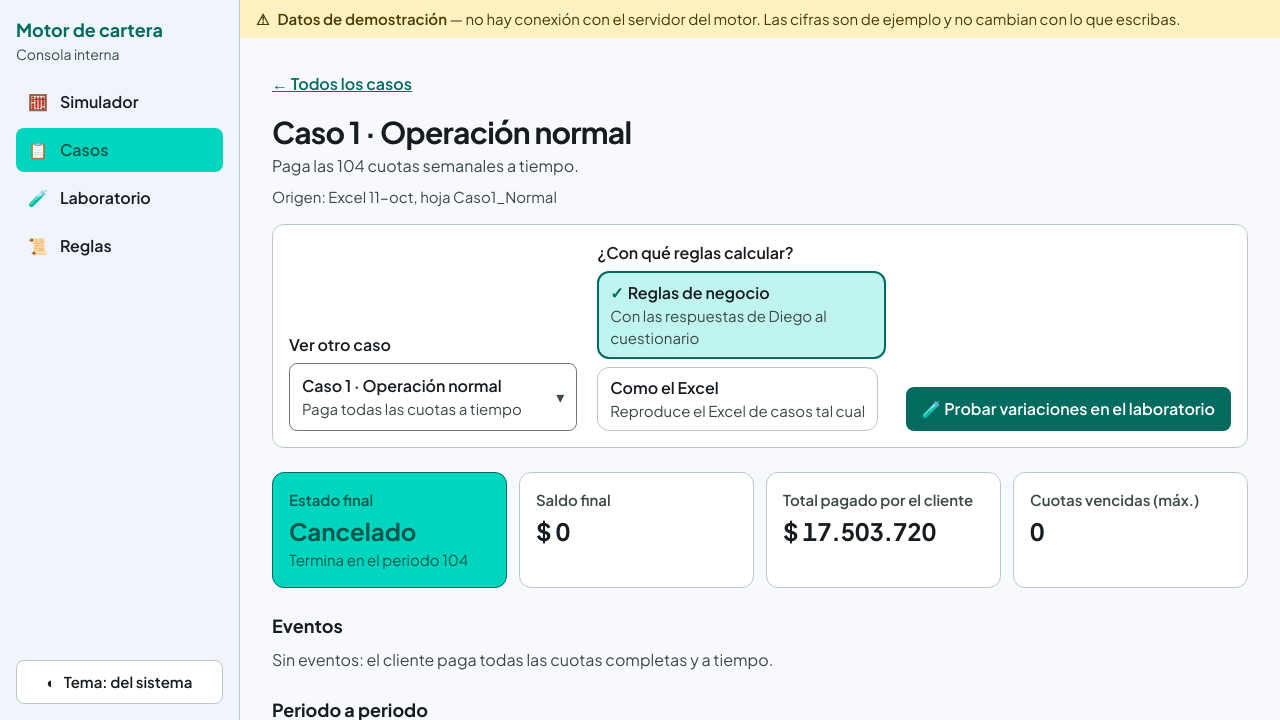
Test case: Laboratorio › "Probar variaciones en el laboratorio" carga el caso y lo deja marcado como punto de partida (bug: decía «Crédito nuevo»)
The width and height of the screenshot is (1280, 720).
Click the button "🧪 Probar variaciones en el laboratorio" at x=1068, y=409, box [906,387,1231,431]
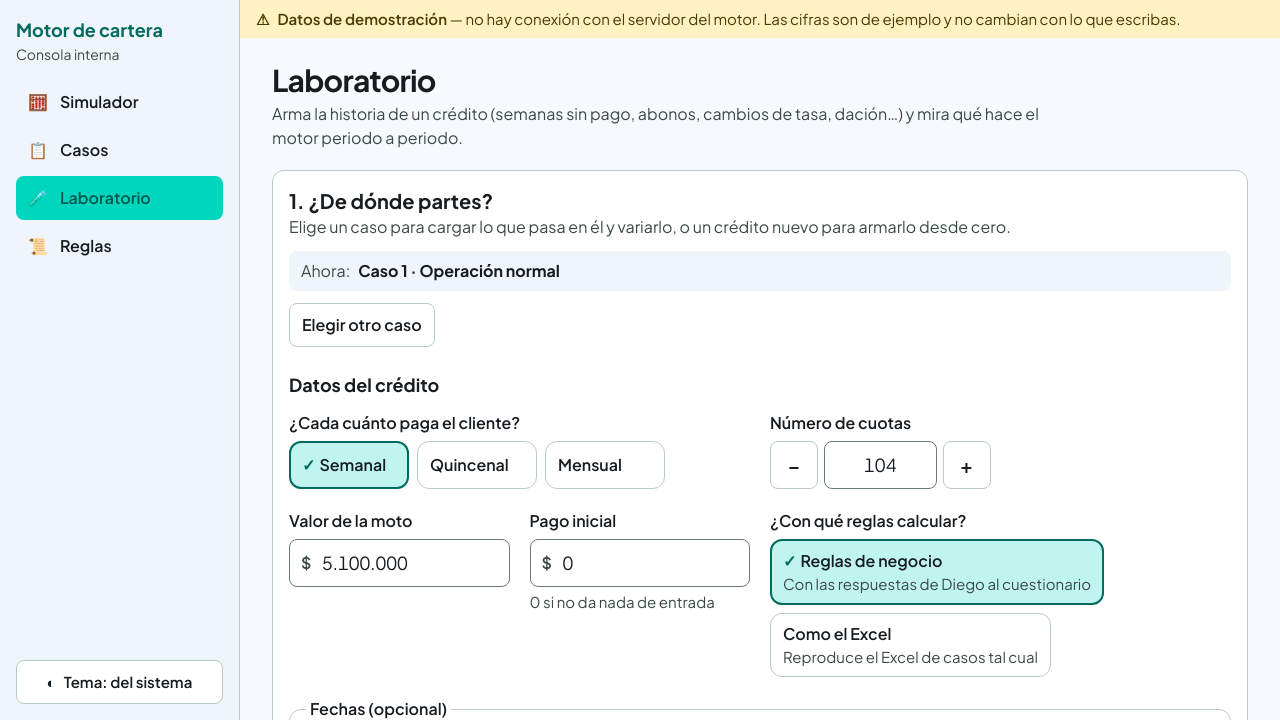
Check: the text "Caso 1 · Operación normal" is shown, box [358,259,560,283]
Click the button "Elegir otro caso" at x=362, y=325, box [289,303,435,347]
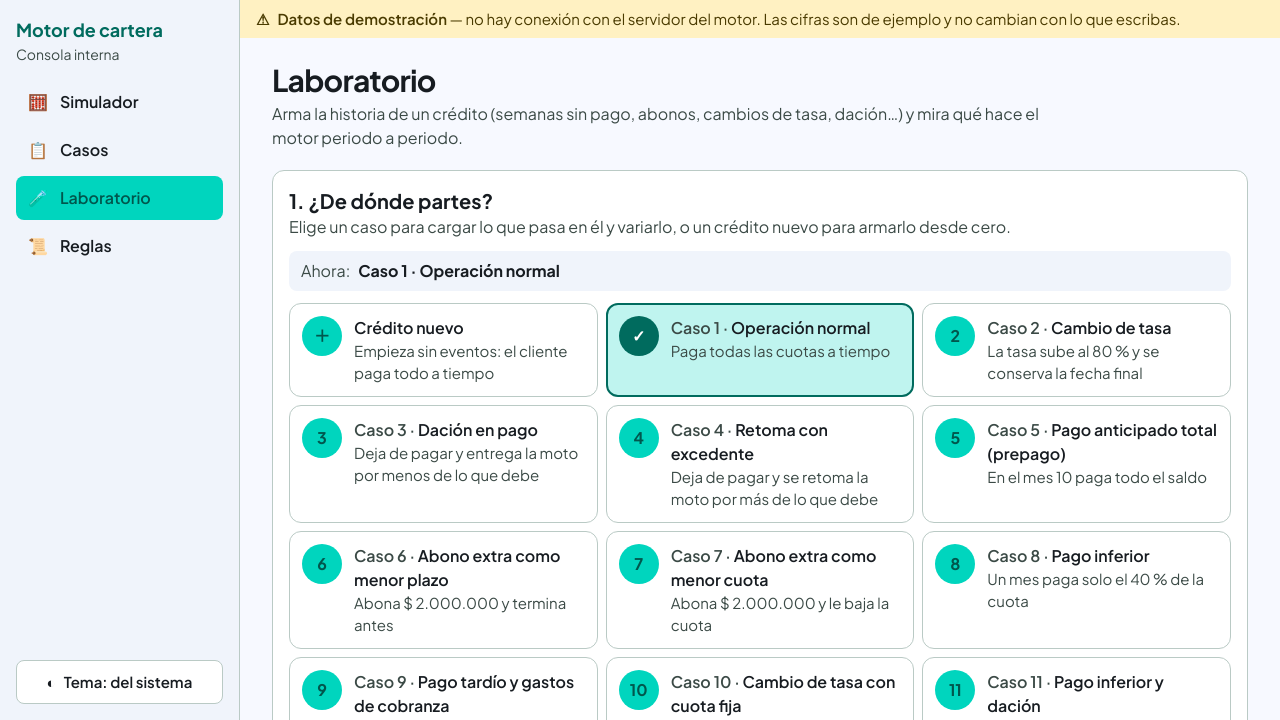
Check: the radio button named "Crédito nuevo:" is not checked
Click the radio button named "Crédito nuevo:" at x=443, y=350, box [289,303,598,397]
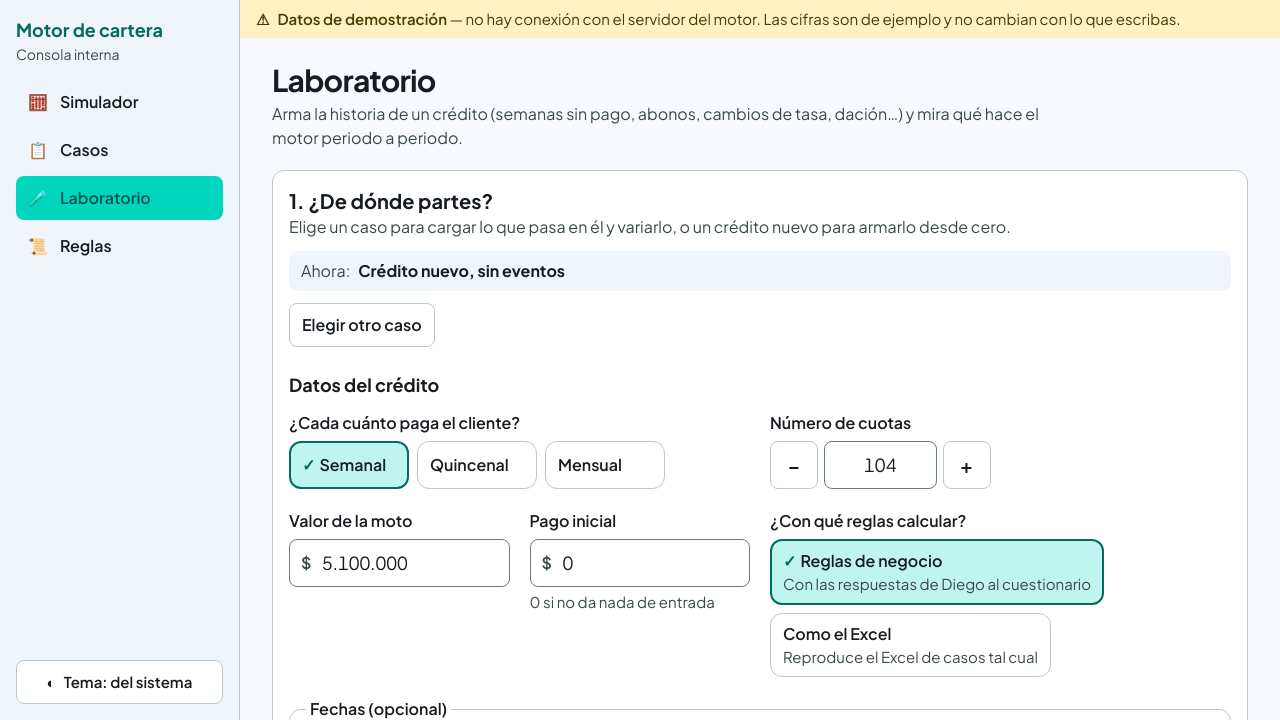
Check: the text "Crédito nuevo, sin eventos" is shown, box [358,259,565,283]
